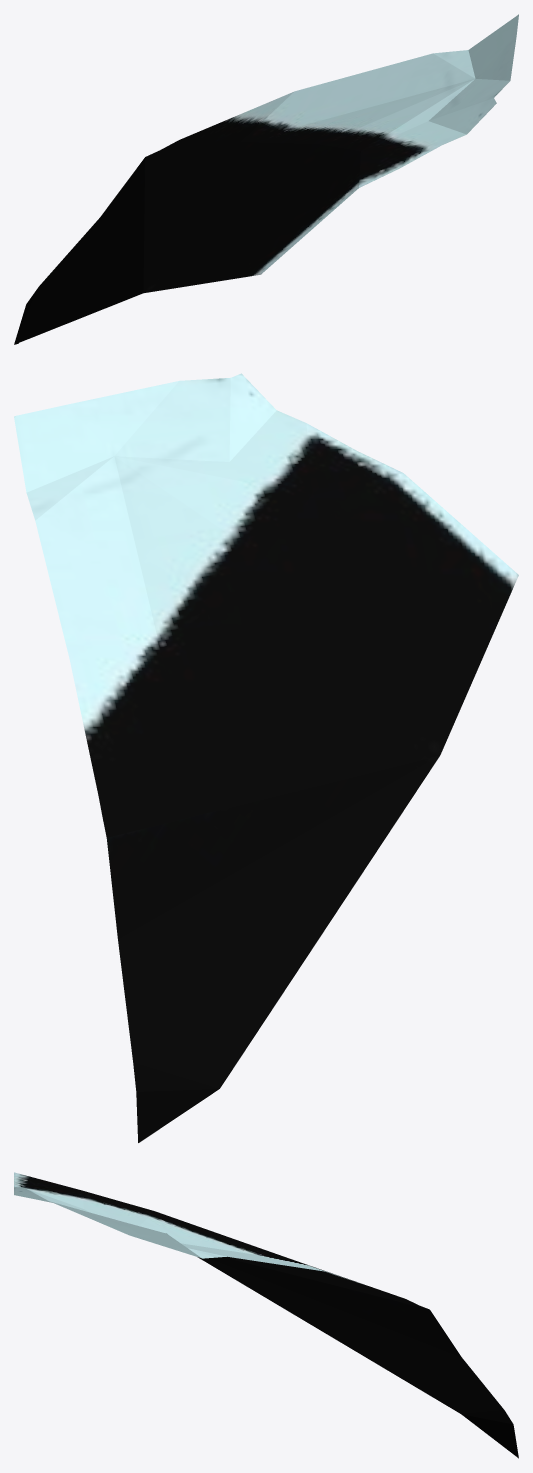
3 renders of one model, top to bottom at view 1: azimuth 30°, elevation 25°; view 2: azimuth 150°, elevation 25°; view 3: azimuth 270°, elevation 25°, orthographic. The views are drawn at different scales.
Bounding box in the file's own units: 1.62 × 1.68 × 2.15.
1 material, 1 textured.
